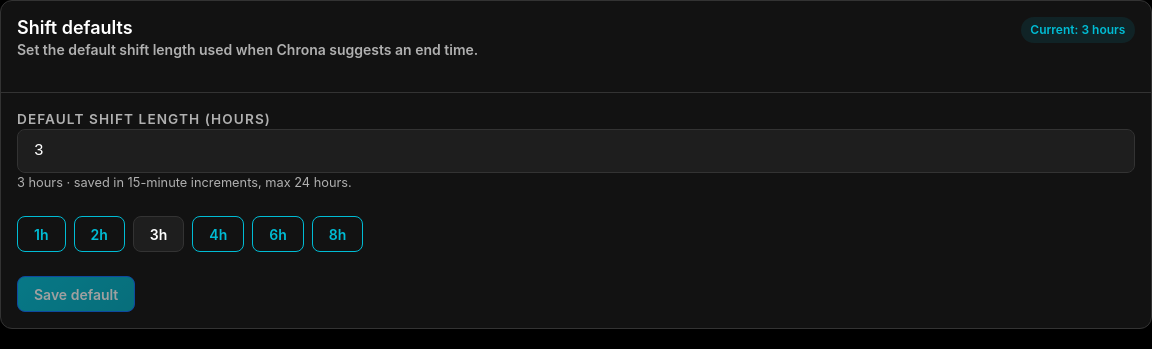
Test case: ShiftPreferences › shows current defaults and saves updated value through preferences hook
Expected: the text "Current: 3 hours" is shown, top-left (1021, 17), bottom-right (1135, 43)
Click the button "2h": (99, 234) top-left (74, 216), bottom-right (125, 252)
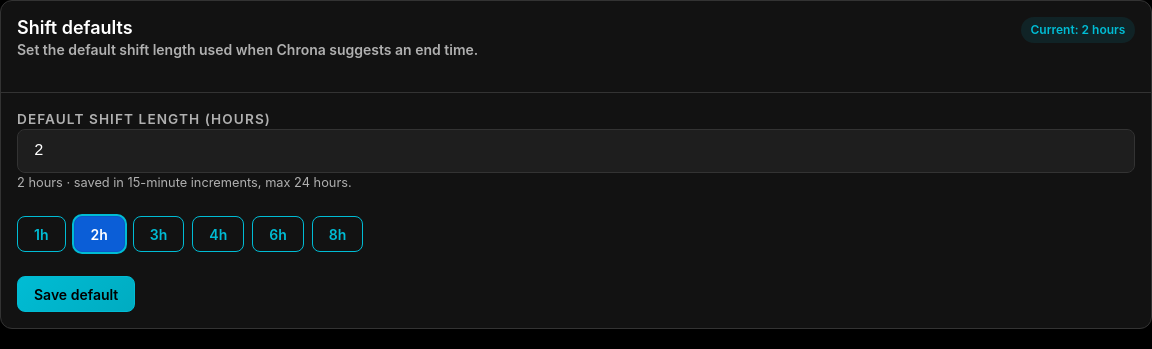
Click the button "Save default": (76, 294) top-left (17, 276), bottom-right (135, 312)
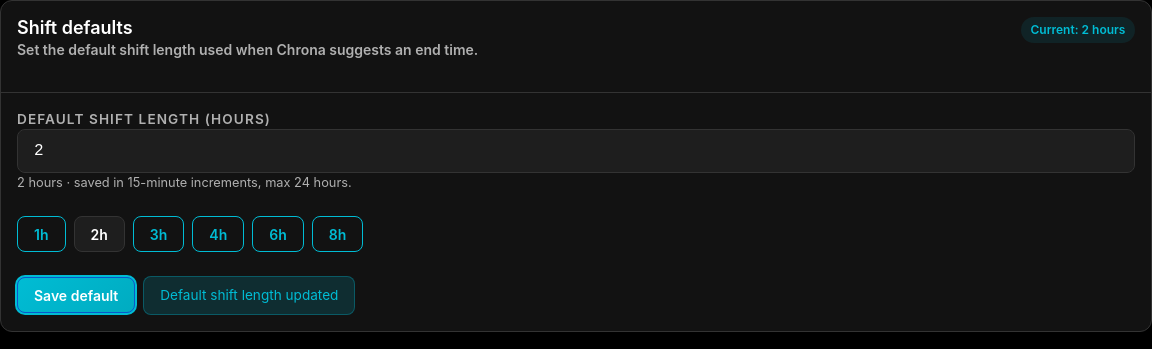
Now the text "Default shift length updated" is shown, box top-left (143, 276), bottom-right (355, 315)
